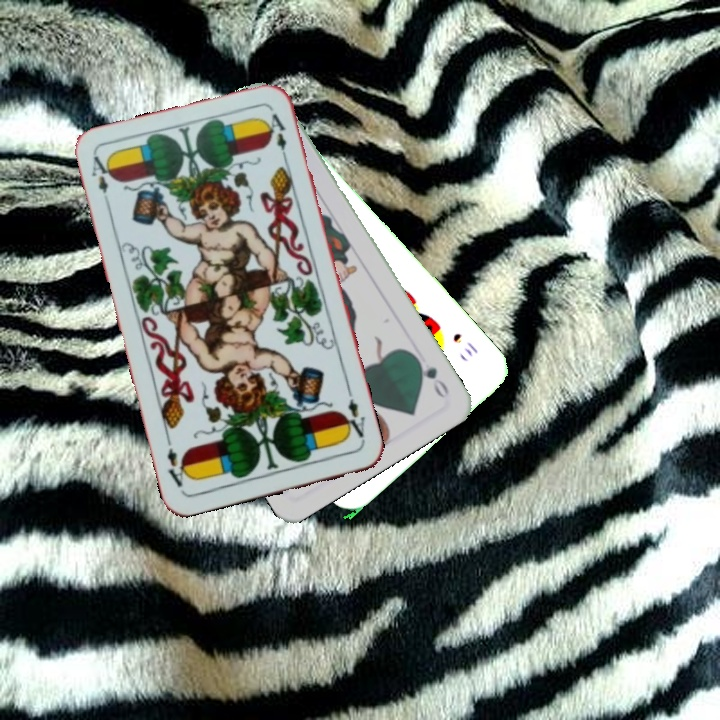EA: (87, 152, 116, 210), (339, 394, 368, 445)
GO: (410, 351, 452, 401)
S10: (449, 329, 481, 360)
